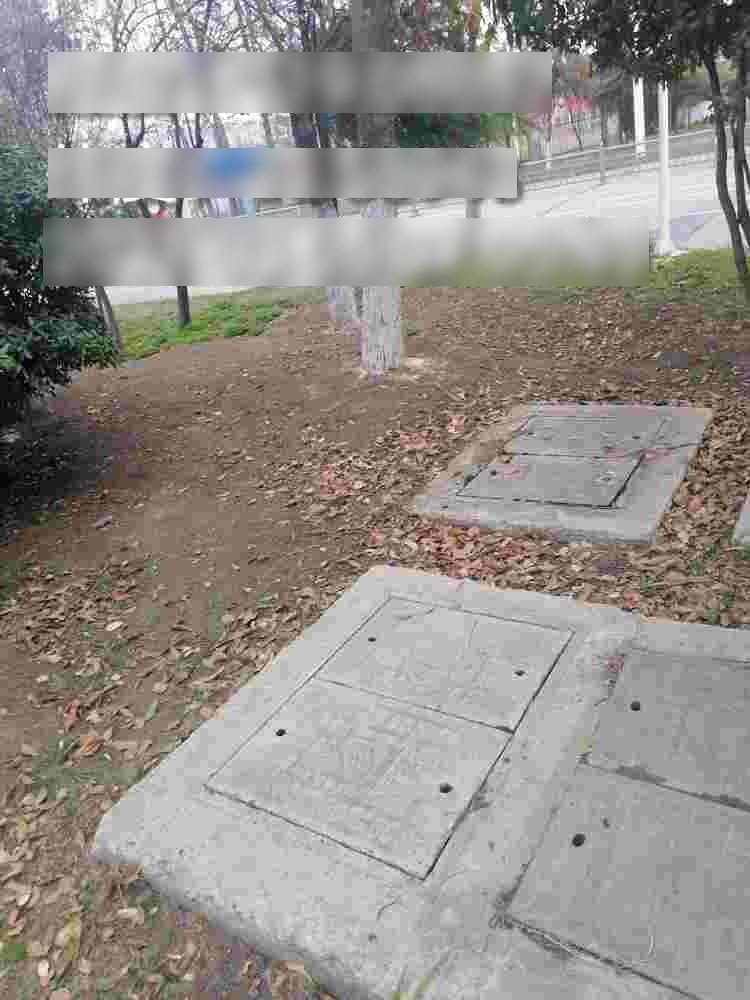good: (190, 588, 586, 896), (478, 638, 750, 1000), (447, 409, 673, 517)
